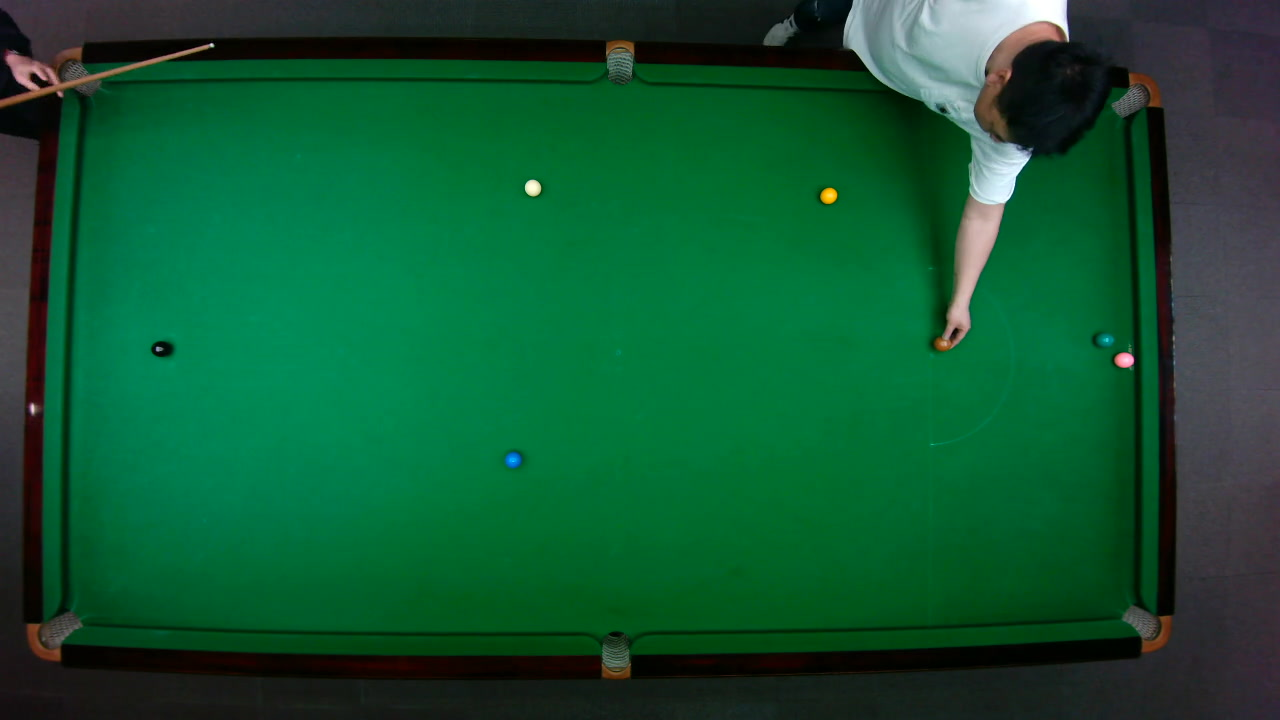bag: (25, 609, 83, 661), (47, 46, 100, 97), (1119, 603, 1171, 652), (1109, 71, 1161, 118), (600, 629, 629, 680), (605, 38, 633, 85)
black: (149, 339, 171, 357)
blue: (503, 449, 523, 469)
brown: (932, 335, 954, 351)
cue: (0, 41, 216, 112)
green: (1093, 330, 1114, 347)
pink: (1112, 350, 1135, 368)
white: (522, 177, 542, 197)
yellow: (818, 186, 838, 204)
zone: (927, 265, 1014, 445)
